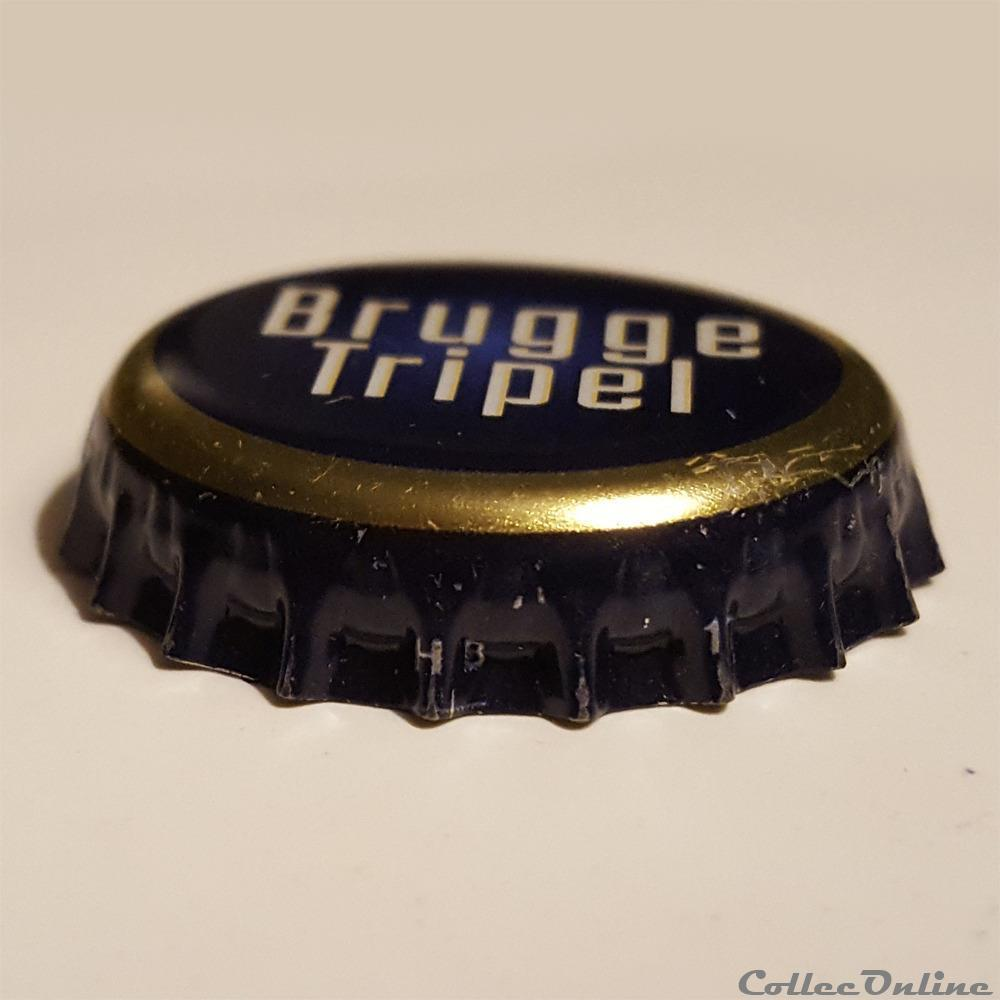metal: (61, 263, 944, 724)
